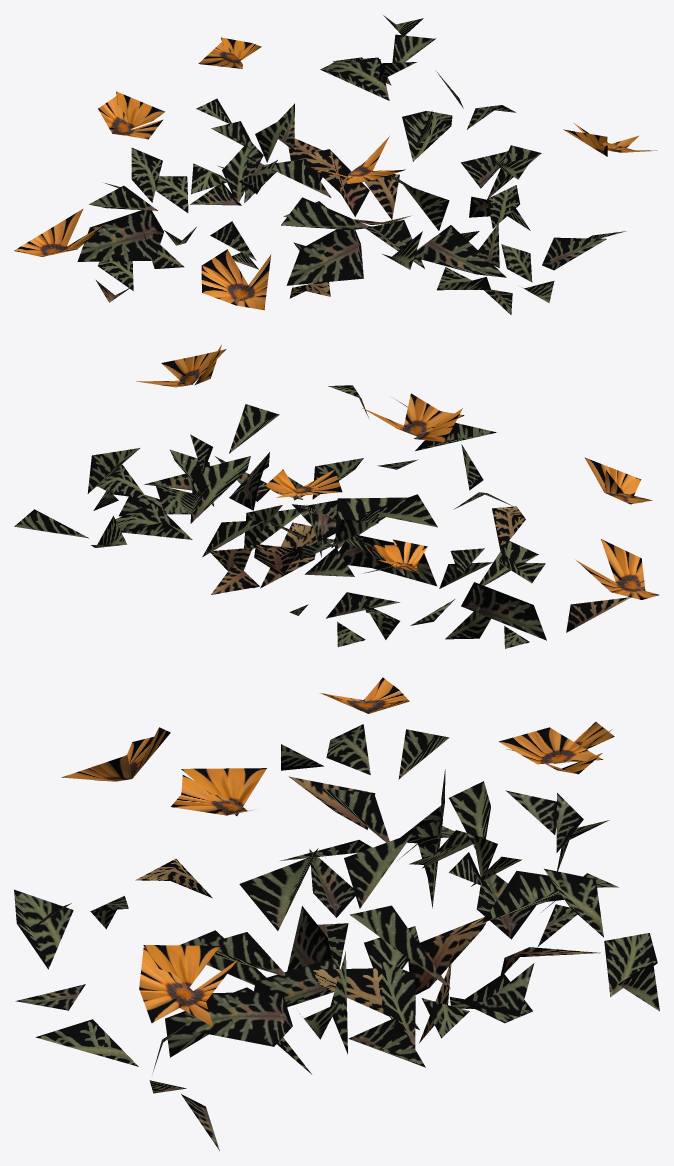
File: flowers-lod.glb
The picture shows the model from 3 angles, top to bottom: view 1: azimuth 30°, elevation 25°; view 2: azimuth 150°, elevation 25°; view 3: azimuth 270°, elevation 25°; orthographic projection. The views are drawn at different scales.
Parts seen in each view (by area): view 1: flower_ursinia_a_LOD0; view 2: flower_ursinia_a_LOD0; view 3: flower_ursinia_a_LOD0.
Boxes of the visible parts, x1=… form: flower_ursinia_a_LOD0: x1=14, y1=15, x2=657, y2=314; flower_ursinia_a_LOD0: x1=14, y1=345, x2=658, y2=648; flower_ursinia_a_LOD0: x1=14, y1=677, x2=659, y2=1150.
Bounding box in the file's own units: 0.4148 × 0.1193 × 0.2971.
1 material, 1 textured.
